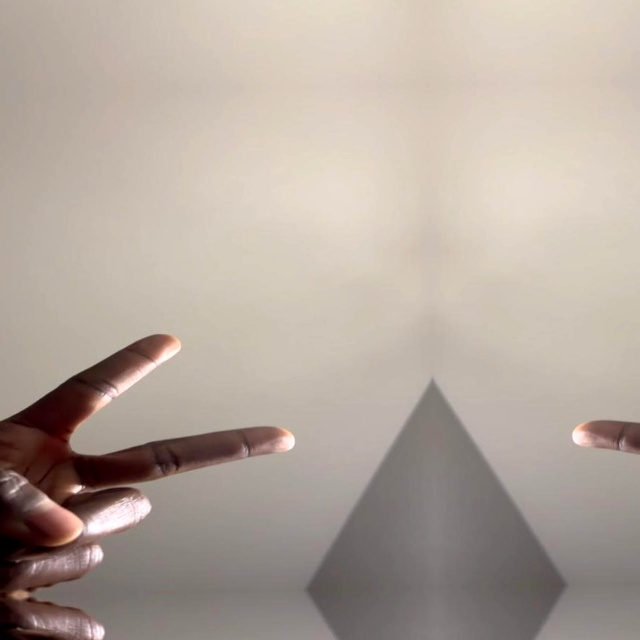Scissors: (0, 332, 299, 596)
